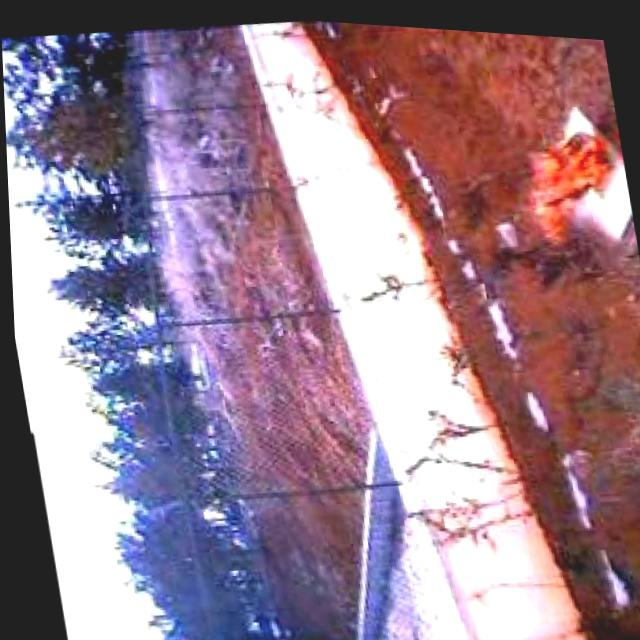helmet: (508, 115, 632, 246)
